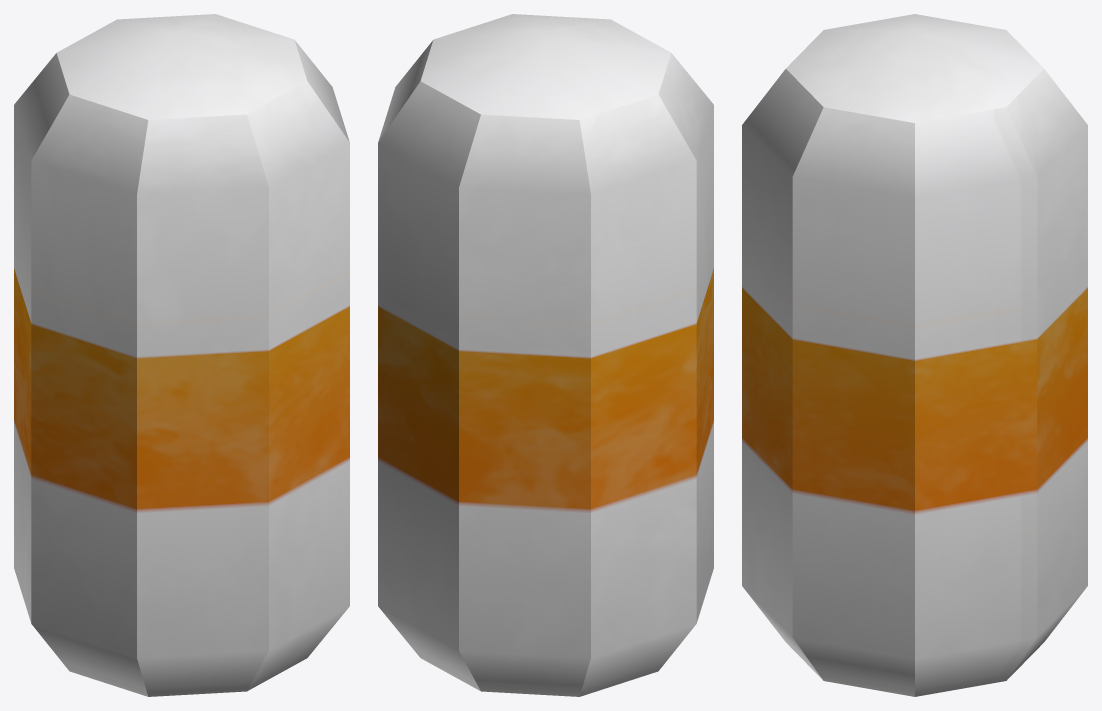
File: Fuel_Pod_03.fbx
The picture shows the model from 3 angles, left to right: view 1: azimuth 30°, elevation 25°; view 2: azimuth 150°, elevation 25°; view 3: azimuth 270°, elevation 25°; orthographic projection.
Visible parts, largest first — view 1: Fuel_Pod_03; view 2: Fuel_Pod_03; view 3: Fuel_Pod_03.
Part boxes in pixels (x1,y1,x2,y2): Fuel_Pod_03: (14,14,349,696); Fuel_Pod_03: (378,14,713,696); Fuel_Pod_03: (742,14,1087,696).
Size of the model in its own units: 3.65 by 7.38 by 3.65.
